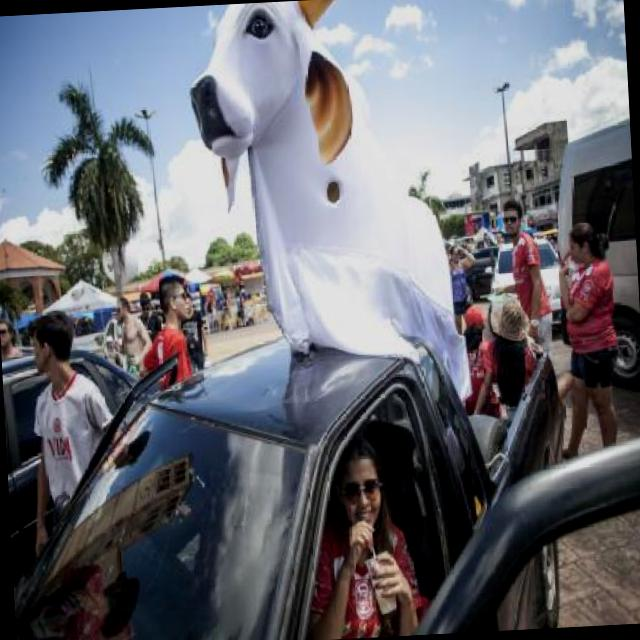Person: (291, 433, 430, 640), (23, 306, 122, 570), (550, 215, 631, 482), (464, 290, 552, 440), (501, 198, 560, 362), (132, 273, 197, 394), (457, 308, 512, 433), (111, 295, 156, 388), (450, 238, 482, 336), (177, 286, 210, 372), (139, 292, 166, 349), (0, 313, 28, 367), (234, 283, 249, 331), (221, 294, 232, 338)
